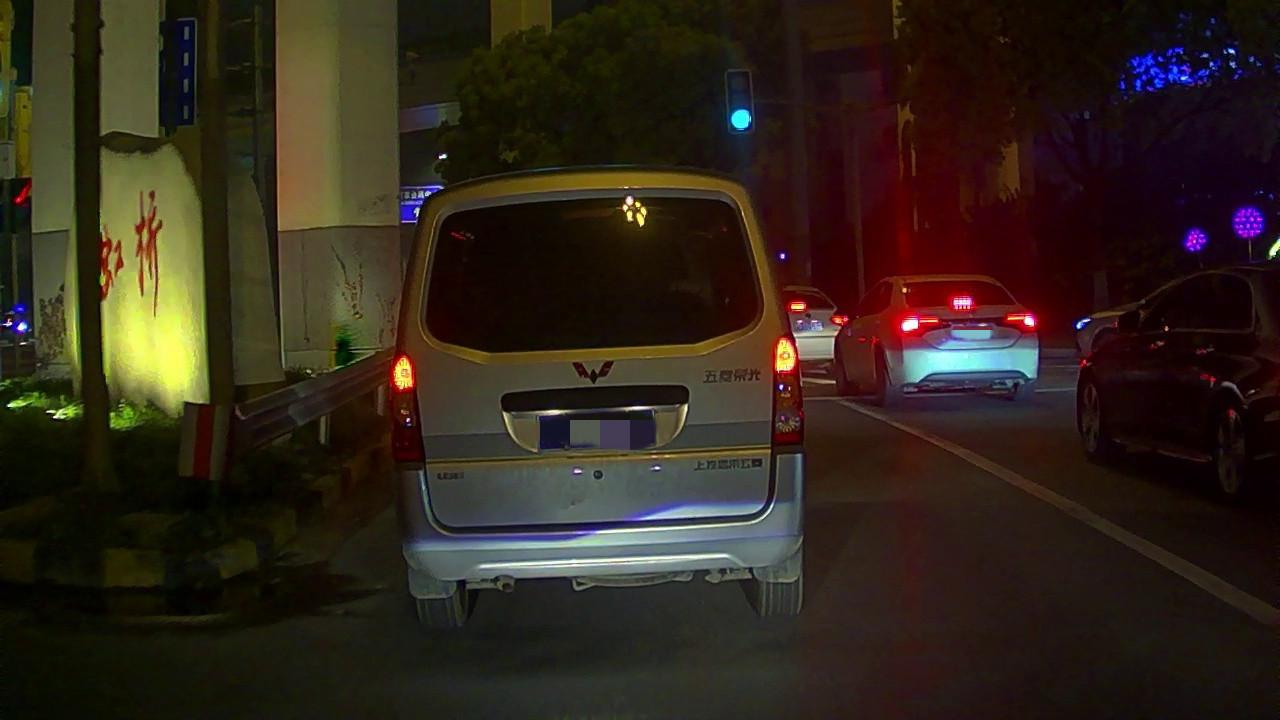traffic_light: (727, 70, 754, 131)
